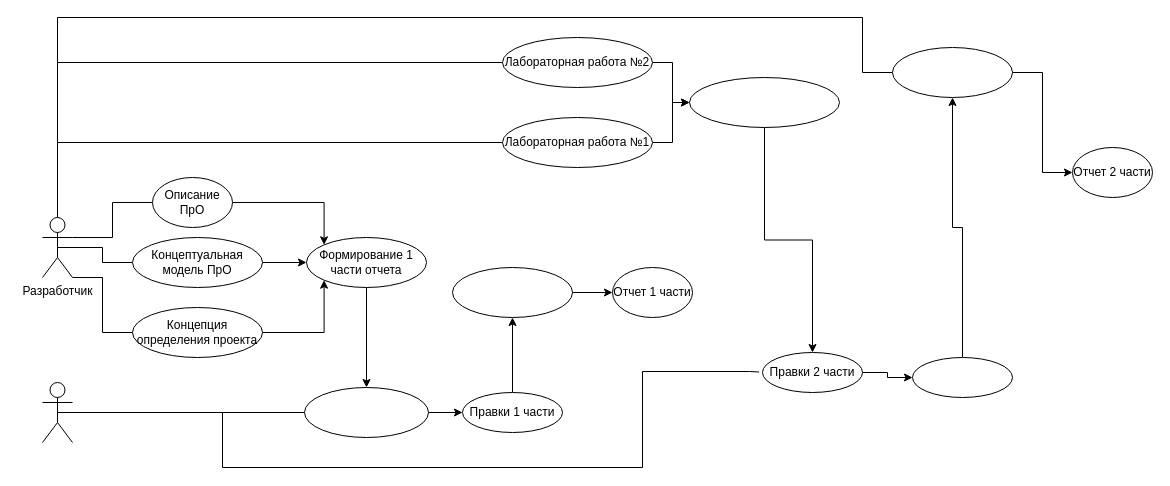
Some shapes in this 1170 by 486 pixel diagram are drawn without their labels. Each missing label, with the centre of its shape:
Коррекция 1 части отчета: (x=512, y=292)
Коррекция 2 части отчета: (x=952, y=72)
Проверка 1 части отчета: (x=366, y=412)
Проверка 2 части: (x=962, y=377)
Проверяющий: (x=57, y=412)
Формирование 2 части отчета: (x=764, y=102)
